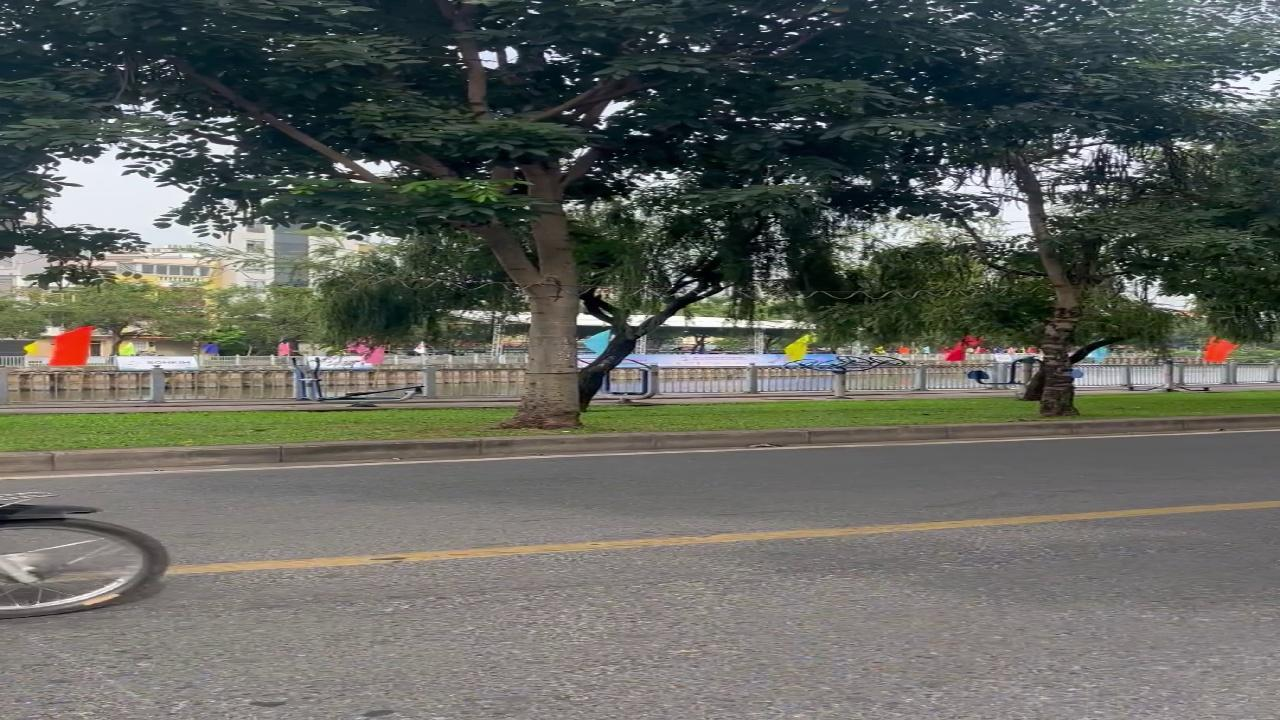Motor: (0, 492, 168, 618)
